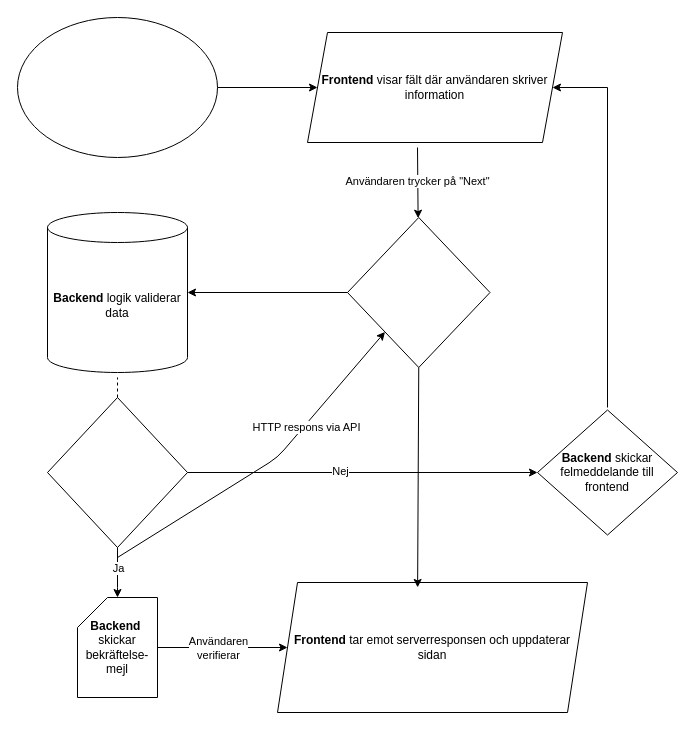
Some shapes in this 695 by 730 pixel diagram are drawn without their labels. The shapes that lost their labels are listed below. From the top down, each one's centre as x and y in pixels, then its label:
pixel 117 87: Användaren skriver klickar på "Register" på sidan premierleague.com
pixel 418 292: Data skickas till backend via en HTTP POST-request (via API)
pixel 117 472: Är uppgifterna ifyllda korrekt och säkert?
